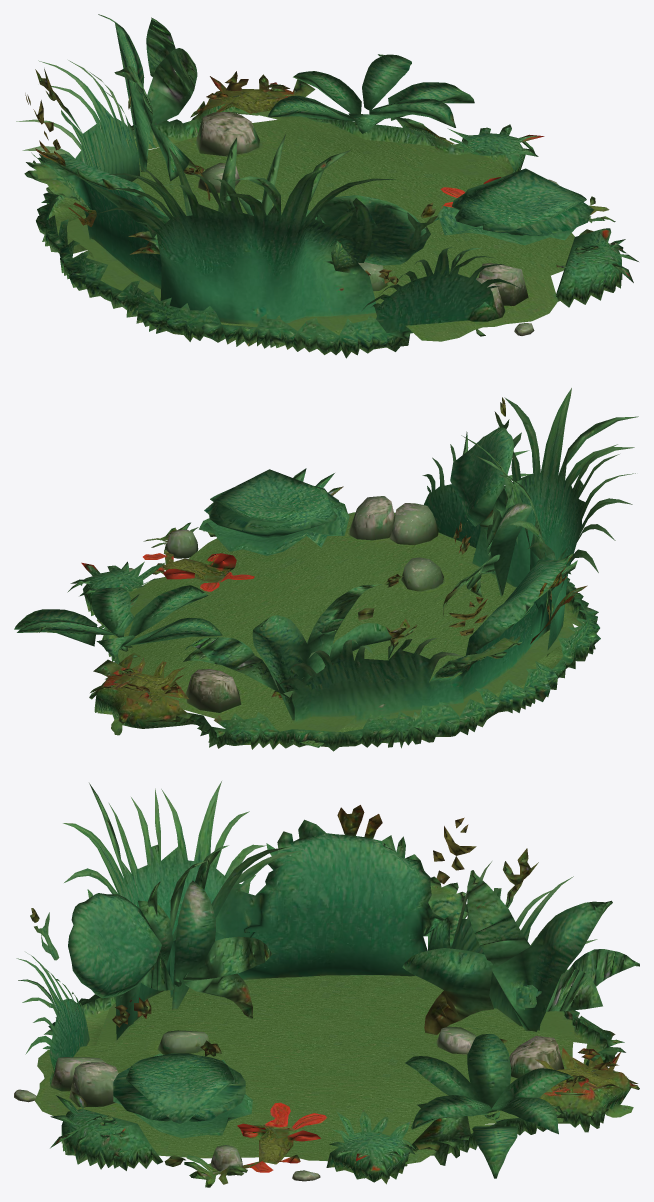
File: dense_roadside_groundcover.glb
3 renders of one model, top to bottom at view 1: azimuth 30°, elevation 25°; view 2: azimuth 150°, elevation 25°; view 3: azimuth 270°, elevation 25°, orthographic. The views are drawn at different scales.
Parts seen in each view (by area): view 1: tripo_node_d437053c-9061-438f-94b5-907c7923c598; view 2: tripo_node_d437053c-9061-438f-94b5-907c7923c598; view 3: tripo_node_d437053c-9061-438f-94b5-907c7923c598.
Boxes of the visible parts, bbox=[...] form: tripo_node_d437053c-9061-438f-94b5-907c7923c598: bbox=[16, 14, 638, 358]; tripo_node_d437053c-9061-438f-94b5-907c7923c598: bbox=[14, 388, 638, 751]; tripo_node_d437053c-9061-438f-94b5-907c7923c598: bbox=[14, 781, 639, 1187].
Size of the model in its own units: 0.9316 by 0.3496 by 0.998.
1 material, 1 textured.
